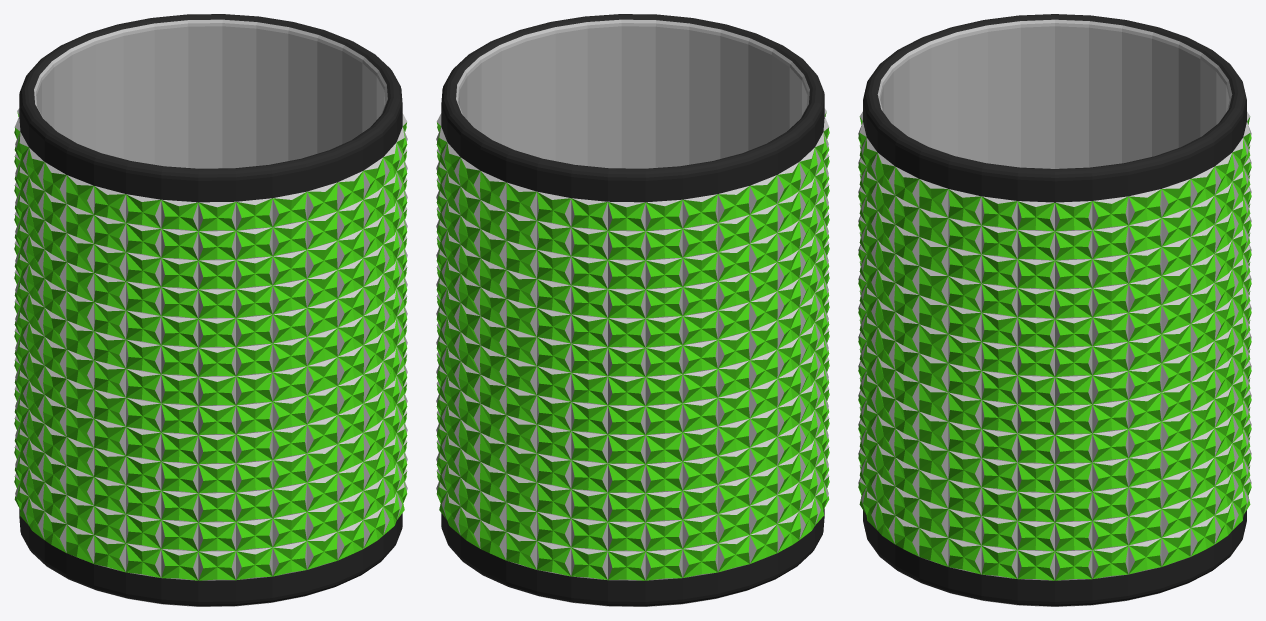
Rendered from Cup.fbx.
The picture shows the model from 3 angles, left to right: view 1: azimuth 30°, elevation 25°; view 2: azimuth 150°, elevation 25°; view 3: azimuth 270°, elevation 25°; orthographic projection.
Visible parts, largest first — view 1: Cylinder; view 2: Cylinder; view 3: Cylinder.
Part boxes in pixels (<box>): Cylinder: <box>14,14,407,606</box>; Cylinder: <box>436,14,829,606</box>; Cylinder: <box>858,14,1251,606</box>.
Bounding box in the file's own units: 205 × 251 × 205.
